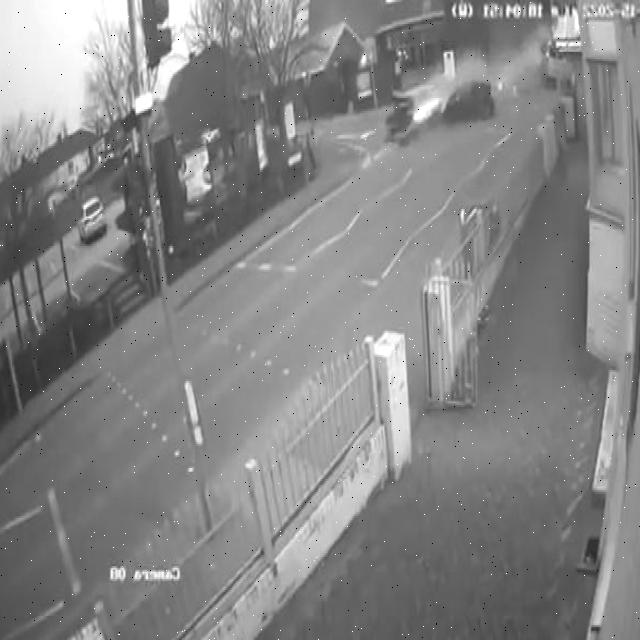accident: (380, 64, 502, 156)
